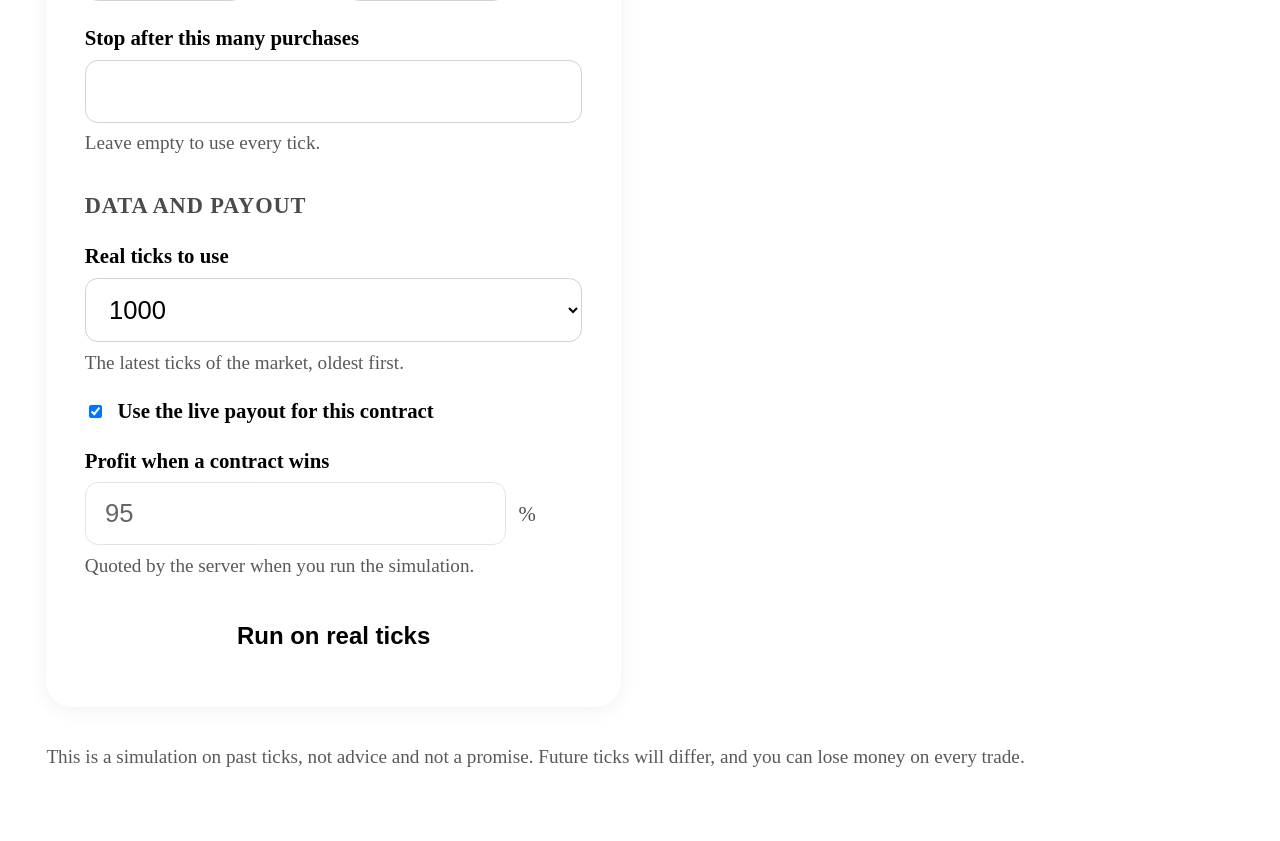
<BulkTrader /> › shows the server message when the ticks cannot be fetched
(page scrolled)
Click the button with test id "dt_bulk_run". click: (334, 636)
box: [85,603,582,669]
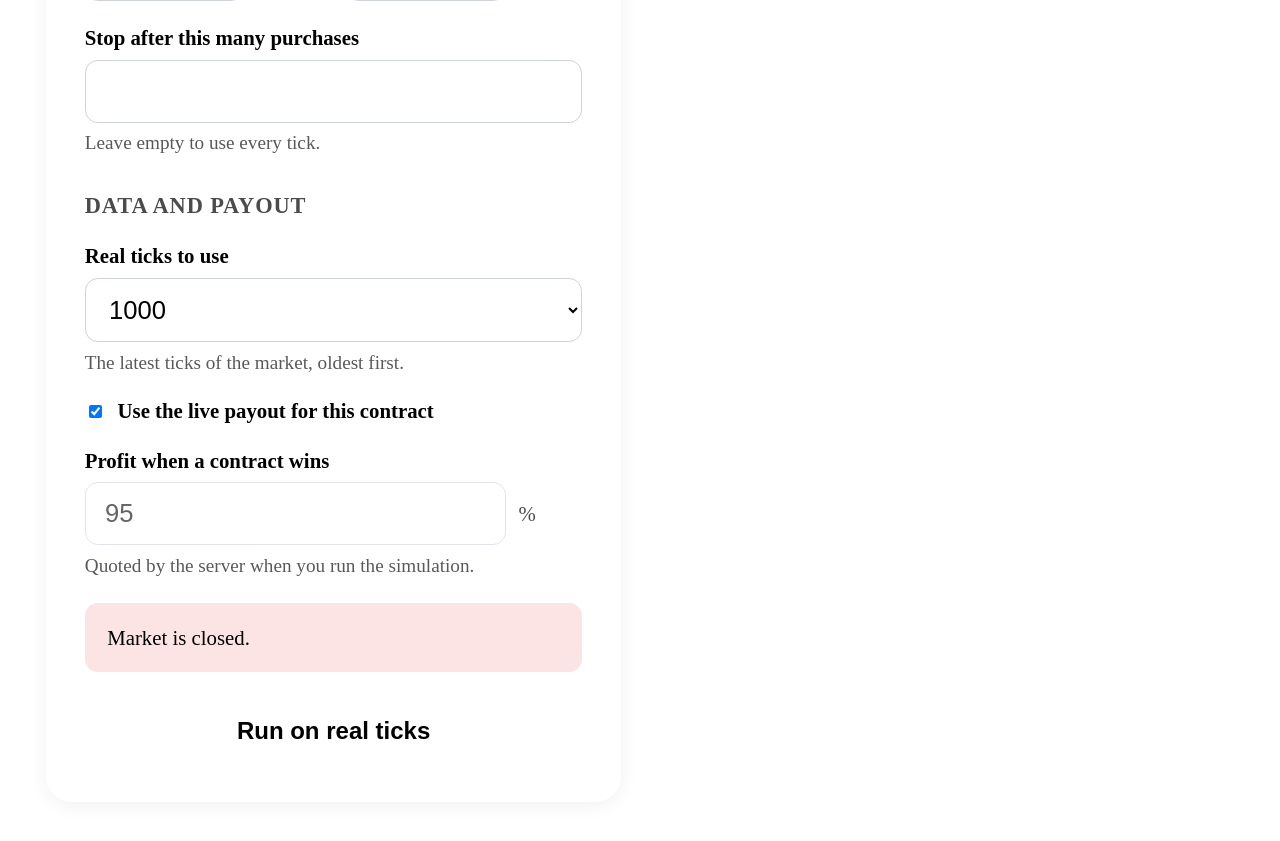
Check: the button with test id "dt_bulk_run" is enabled, box [85,698,582,764]
Check: the message with test id "dt_bulk_error" reads "Market is closed.", box [107,626,250,649]
